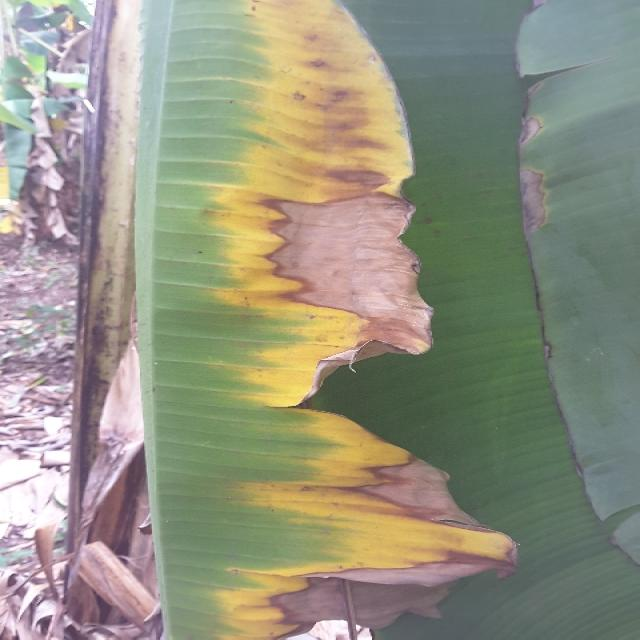Bract_mosaic_virus: (47, 405, 157, 640), (27, 105, 86, 244)
Cordana: (165, 0, 538, 640), (498, 89, 569, 266)
